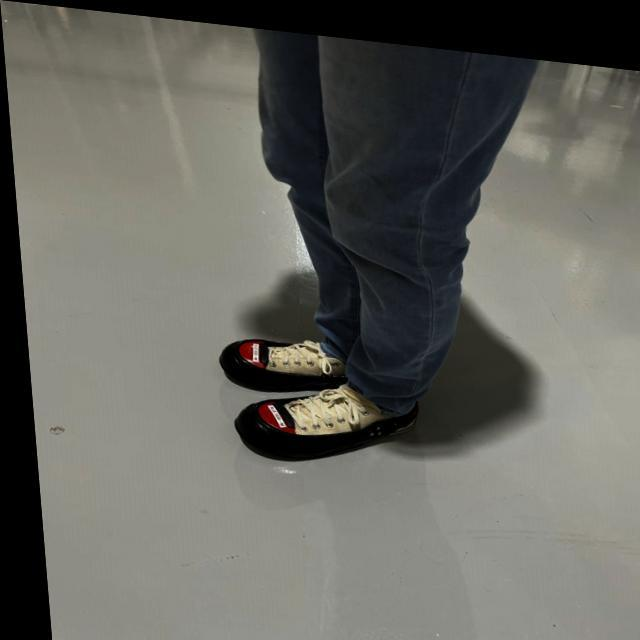shoes: (225, 392, 412, 465), (209, 332, 347, 389)
